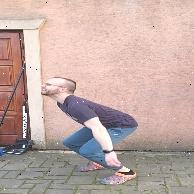high_jumps: (29, 67, 152, 192)
